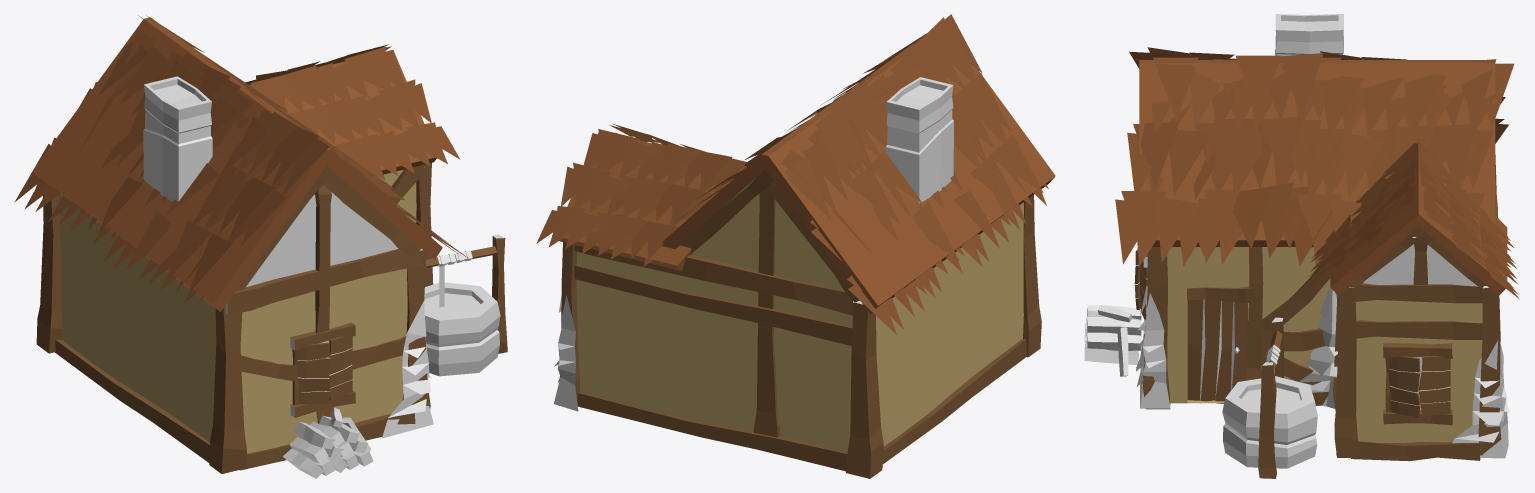
File: rumah sumur.fbx
3 views of the same model, side by side, from view 1: azimuth 30°, elevation 25°; view 2: azimuth 150°, elevation 25°; view 3: azimuth 270°, elevation 25° (orthographic).
Parts seen in each view (by area): view 1: House 1.001; view 2: House 1.001; view 3: House 1.001.
Part boxes in pixels (bbox=[...]): House 1.001: bbox=[14, 15, 507, 478]; House 1.001: bbox=[536, 14, 1055, 478]; House 1.001: bbox=[1084, 14, 1519, 478].
Size of the model in its own units: 1455 by 1177 by 1483.
